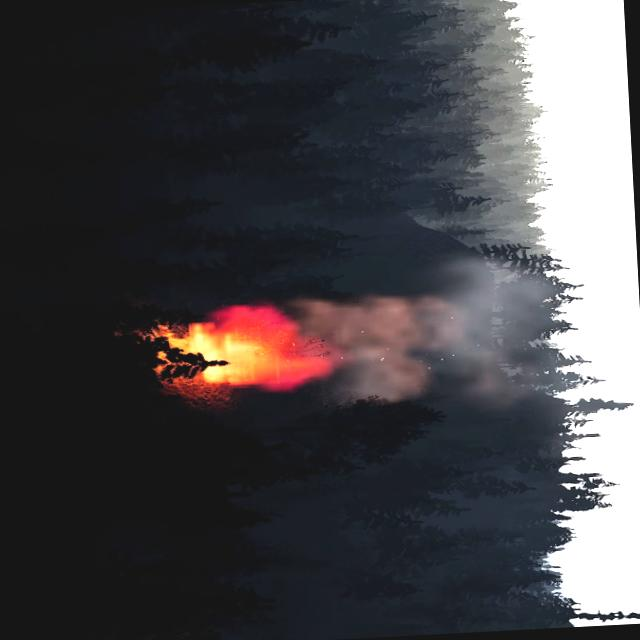fire: (163, 300, 337, 397)
smoke: (286, 251, 552, 418)
